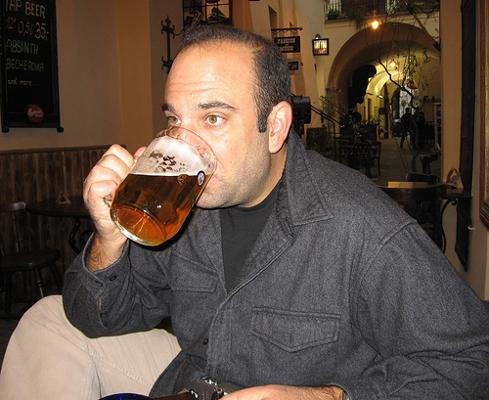person: (63, 20, 489, 400)
